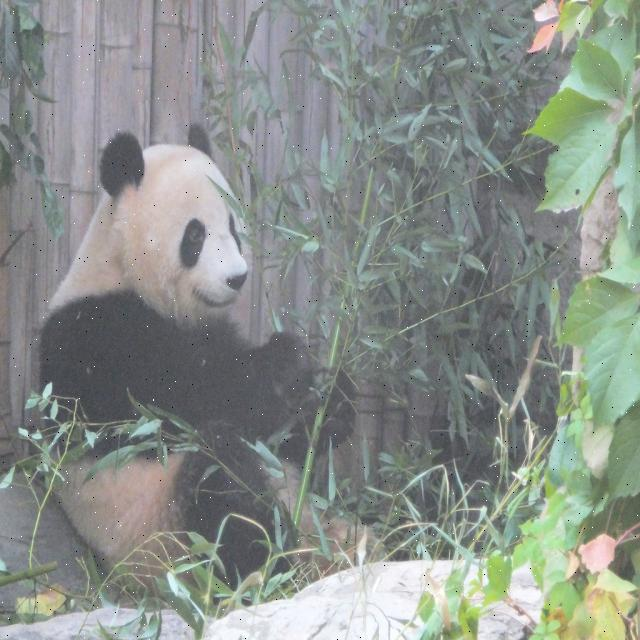panda: (34, 131, 382, 599)
